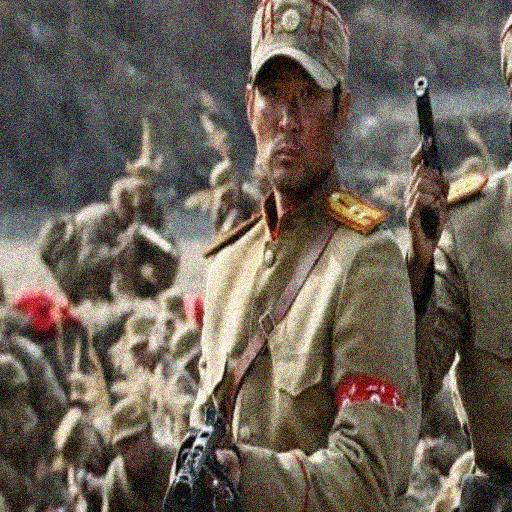north army: (184, 2, 453, 512)
